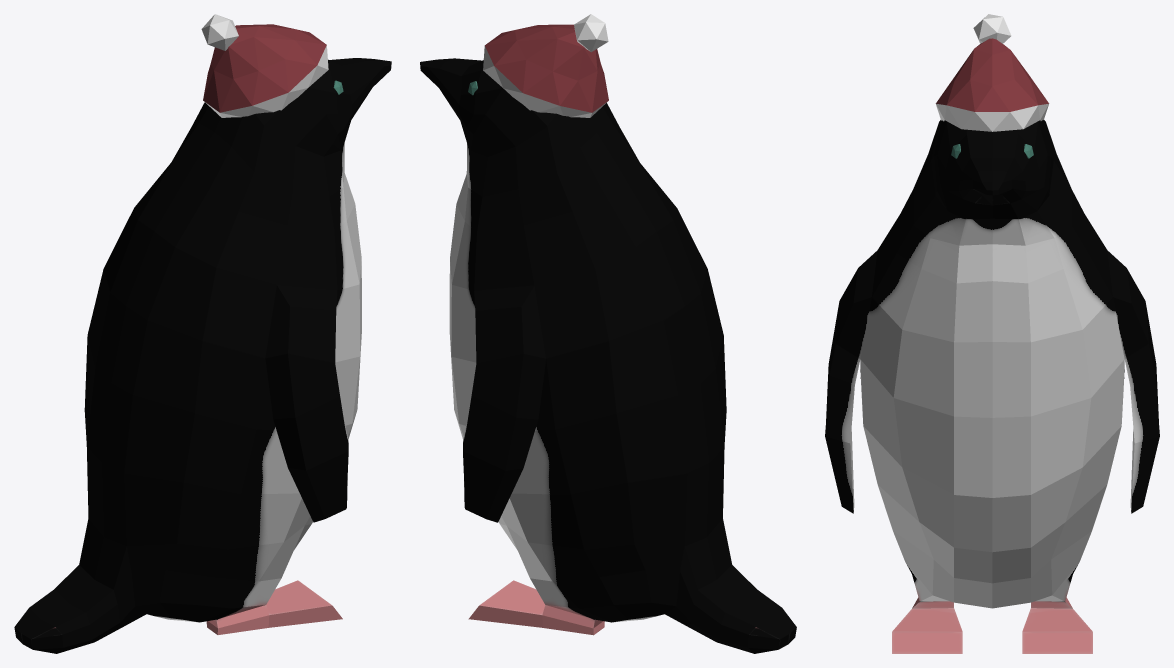
Rendered from Pingu_hat.fbx.
The picture shows the model from 3 angles, left to right: view 1: azimuth 30°, elevation 25°; view 2: azimuth 150°, elevation 25°; view 3: azimuth 270°, elevation 25°; orthographic projection. The views are drawn at different scales.
Visible parts, largest first — view 1: Pingu, WoolHat; view 2: Pingu, WoolHat; view 3: Pingu, WoolHat.
Part boxes in pixels (x1,y1,x2,y2): Pingu: (14,58,391,653); WoolHat: (201,14,328,117); Pingu: (420,58,796,653); WoolHat: (483,14,608,117); Pingu: (825,120,1159,653); WoolHat: (935,14,1049,131).
Size of the model in its own units: 77.93 by 118 by 59.38.
3 materials, 1 textured.
